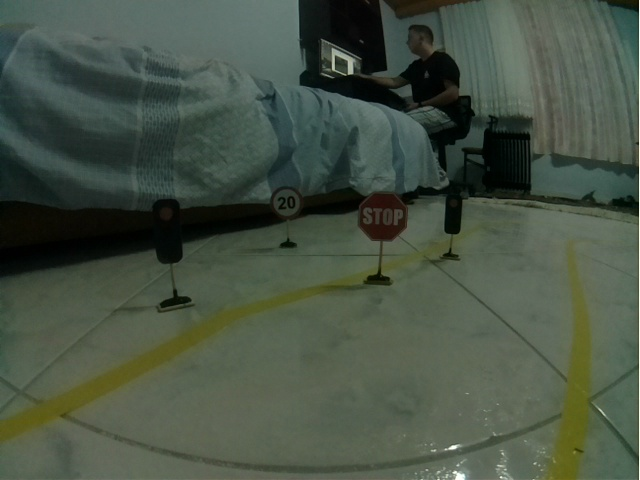Red Traffic Light: (152, 199, 183, 264), (444, 190, 462, 235)
Speed Limit 20: (270, 186, 304, 220)
Stop: (358, 192, 408, 242)
